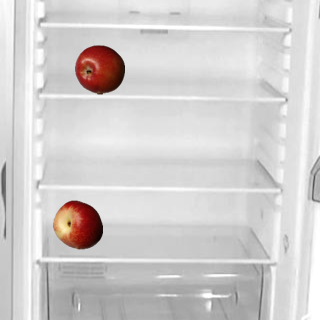Apple Braeburn: (74, 44, 124, 94)
Nectarine: (52, 199, 102, 249)
